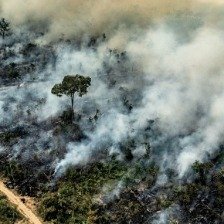incendio: (50, 1, 212, 203)
